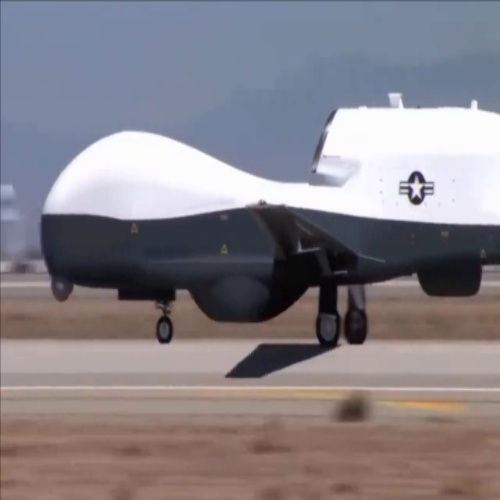uav1040: (38, 84, 499, 353)
